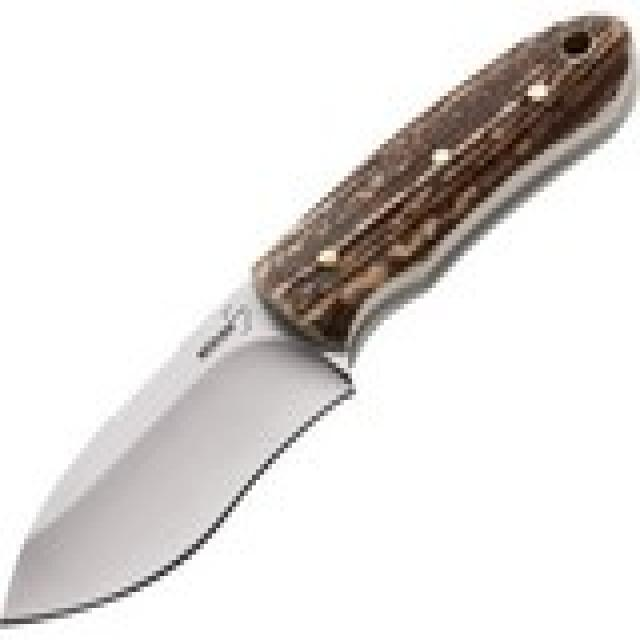Knife: (1, 16, 638, 640)
